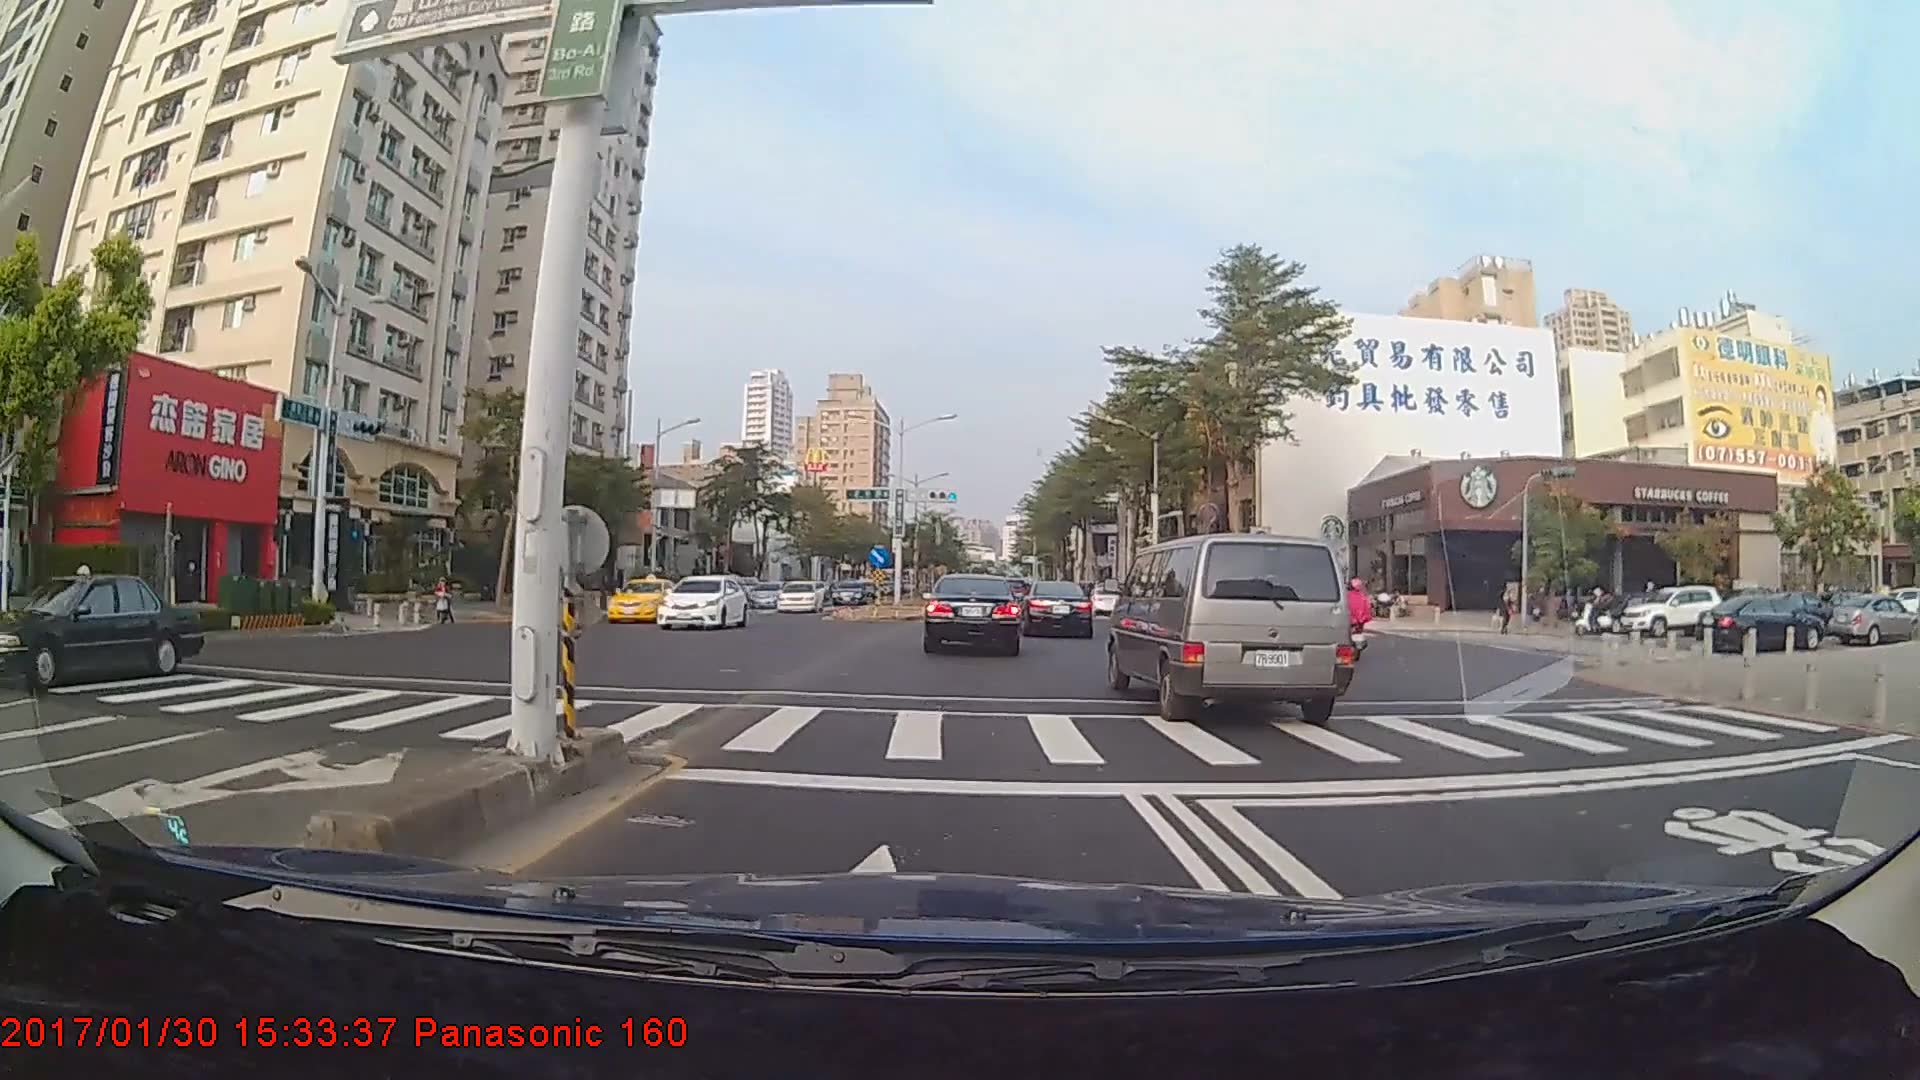rider: (1579, 584, 1622, 640)
vehicle: (1109, 533, 1354, 721), (0, 571, 203, 684), (921, 573, 1023, 656), (1696, 588, 1826, 649), (655, 572, 750, 630), (1616, 586, 1721, 636), (1019, 579, 1094, 640), (1822, 592, 1910, 644), (603, 577, 683, 624), (774, 580, 823, 612), (831, 577, 866, 603)
